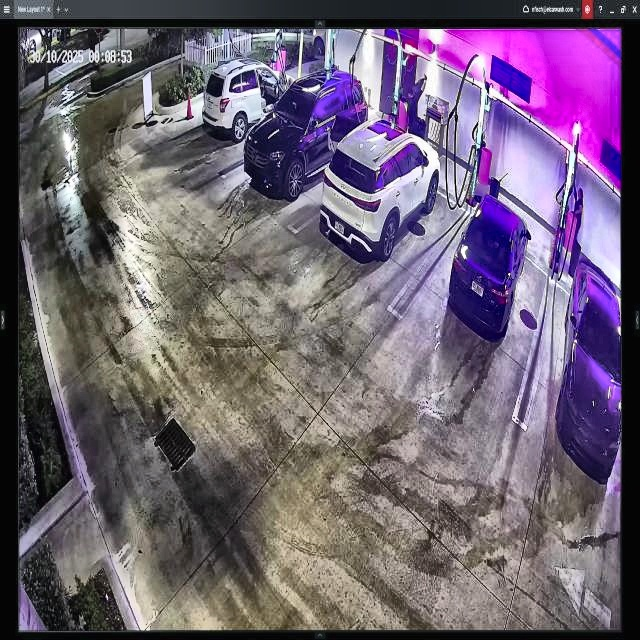Car: (321, 120, 440, 262), (243, 72, 368, 200), (451, 193, 532, 343)
